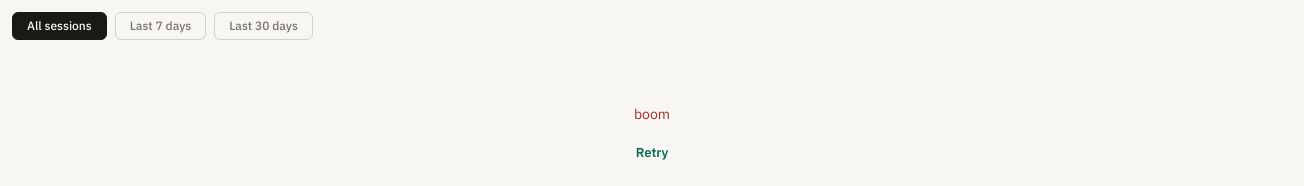
it: HistoryList › surfaces a load failure with a retry
This screenshot has width=1304, height=186.
Expected: the message reads "boom", [634, 105, 670, 123]
What coordinates should you click on to do the following:
click the button "Retry"
I would click on:
 (652, 153)
Its box is [628, 136, 676, 170].
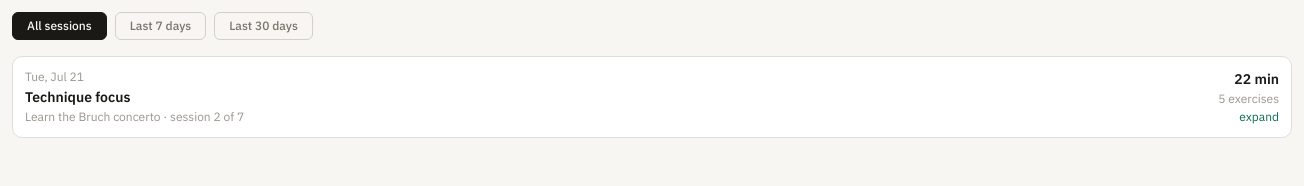
Result: the heading "Technique focus" is shown at [25, 88, 130, 106]
